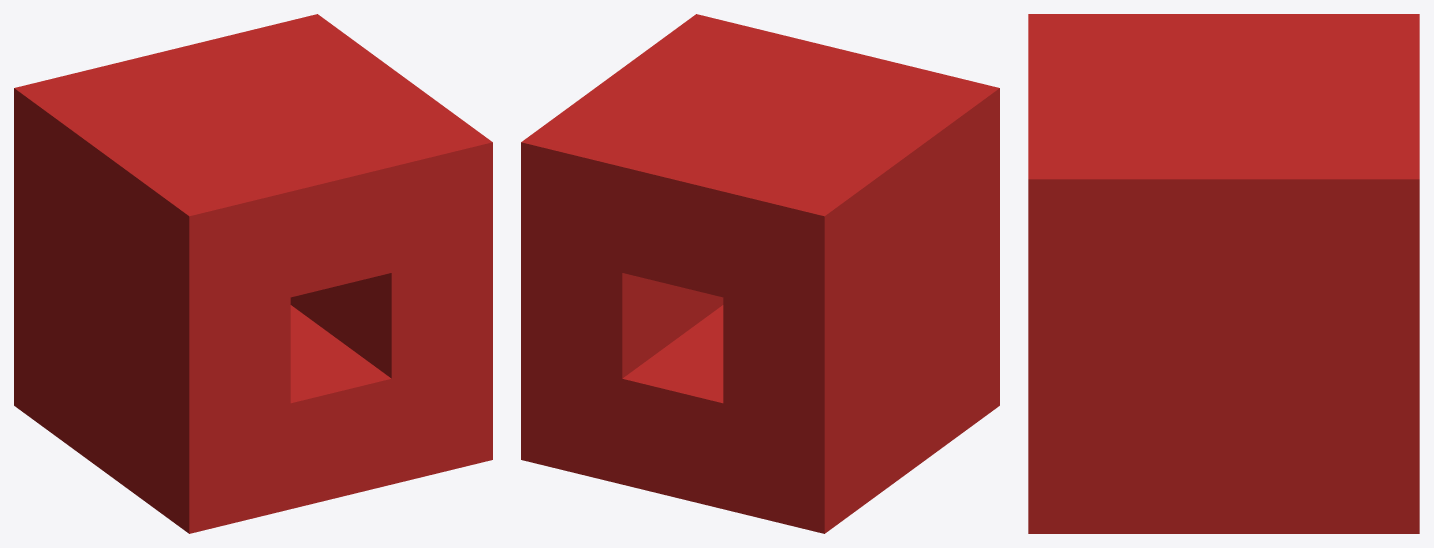
Rendered from davidCubeVarB1.gltf.
The picture shows the model from 3 angles, left to right: view 1: azimuth 30°, elevation 25°; view 2: azimuth 150°, elevation 25°; view 3: azimuth 270°, elevation 25°; orthographic projection. The views are drawn at different scales.
Visible parts, largest first — view 1: davidCubeVarB1; view 2: davidCubeVarB1; view 3: davidCubeVarB1.
Boxes of the visible parts, x1,y1,x2,y2 form: davidCubeVarB1: (14,14,492,533); davidCubeVarB1: (521,14,999,533); davidCubeVarB1: (1028,14,1419,533).
Size of the model in its own units: 0.6695 by 0.6695 by 0.6695.
